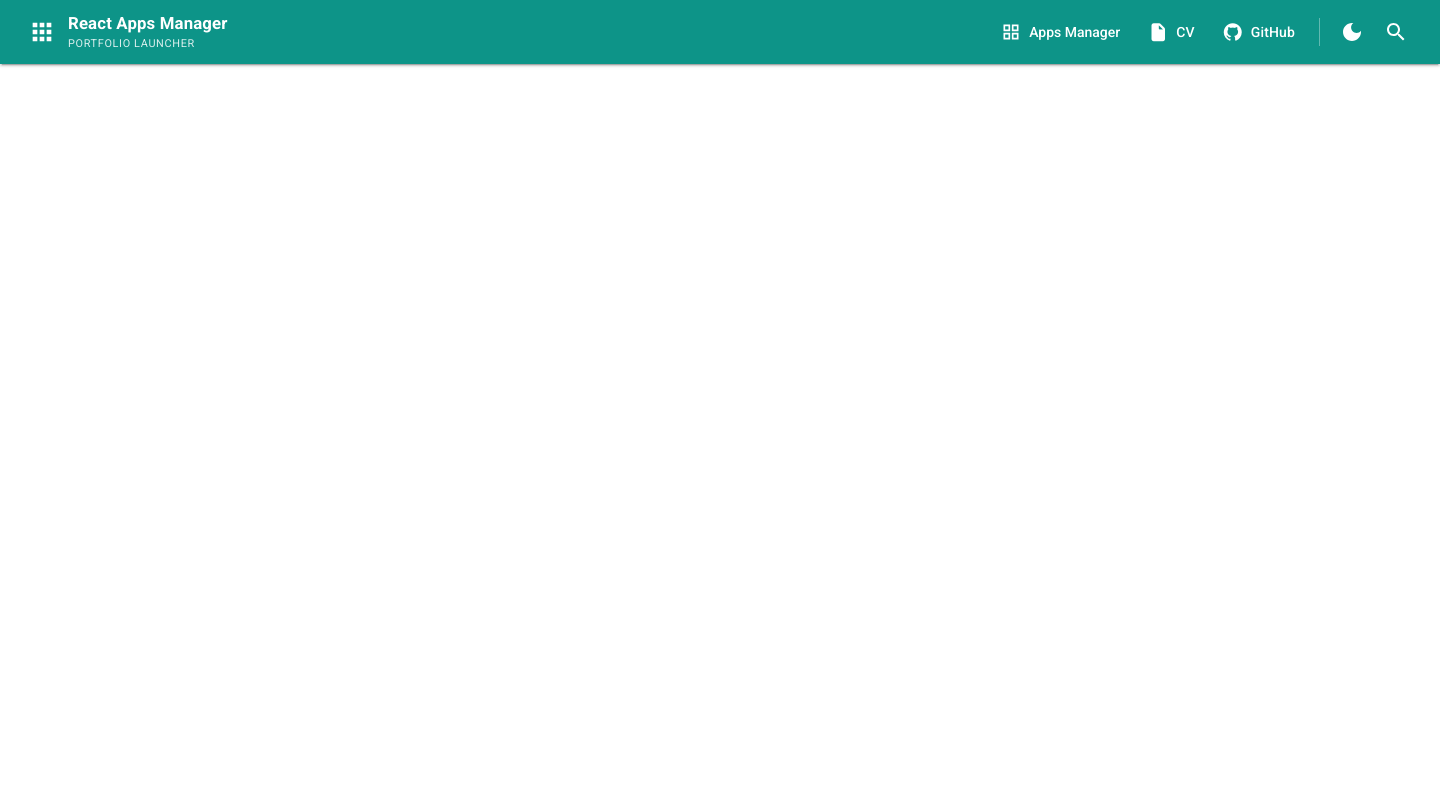
Test case: AppsManagerNavbar › desktop › opens and closes the search dialog
The image size is (1440, 810).
Click the button named "Search" at point(1396, 32), box [1376,12,1416,52]
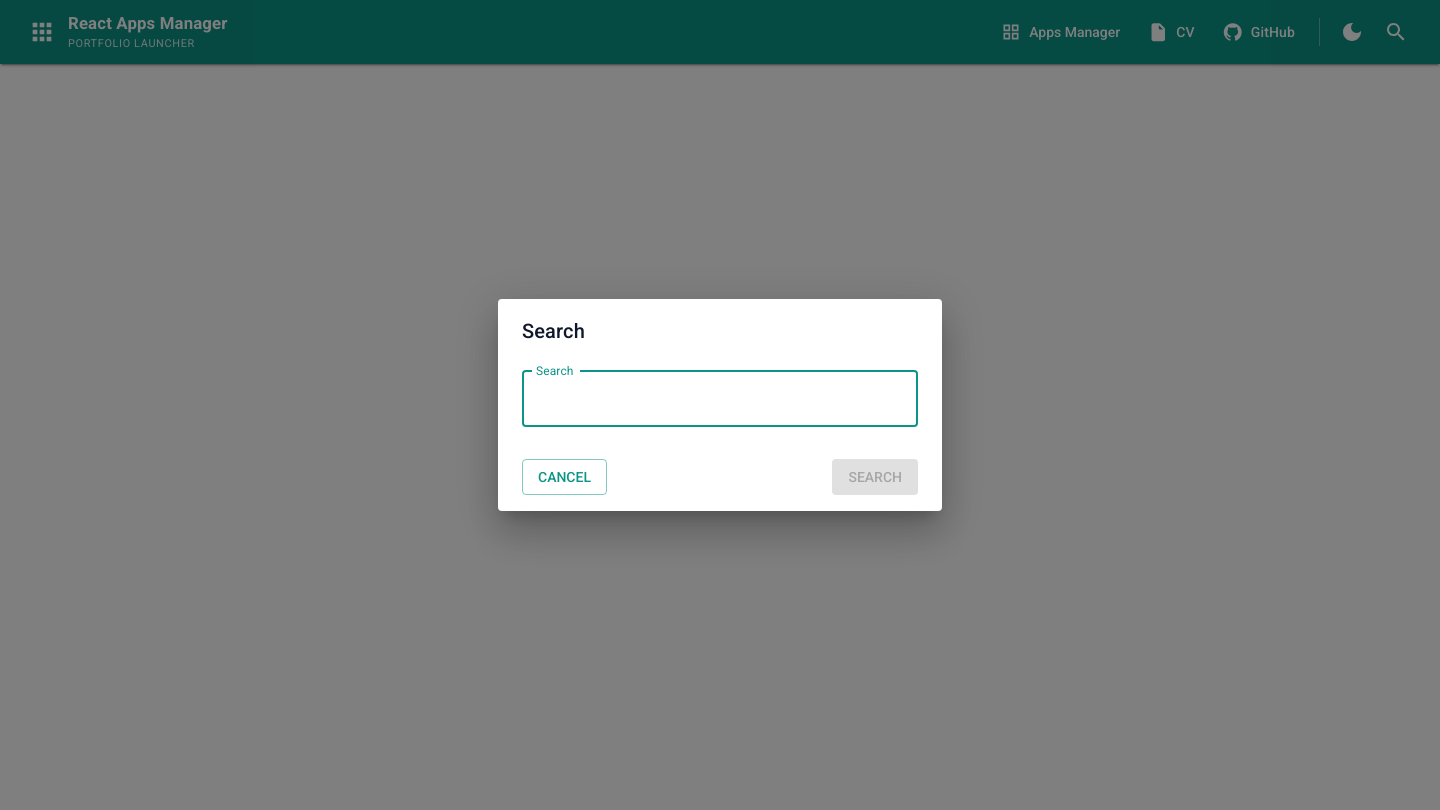
Expected: the heading "Search" is shown, [522,319,585,343]
Click the button "Cancel" at point(564, 477), box [522,459,607,495]
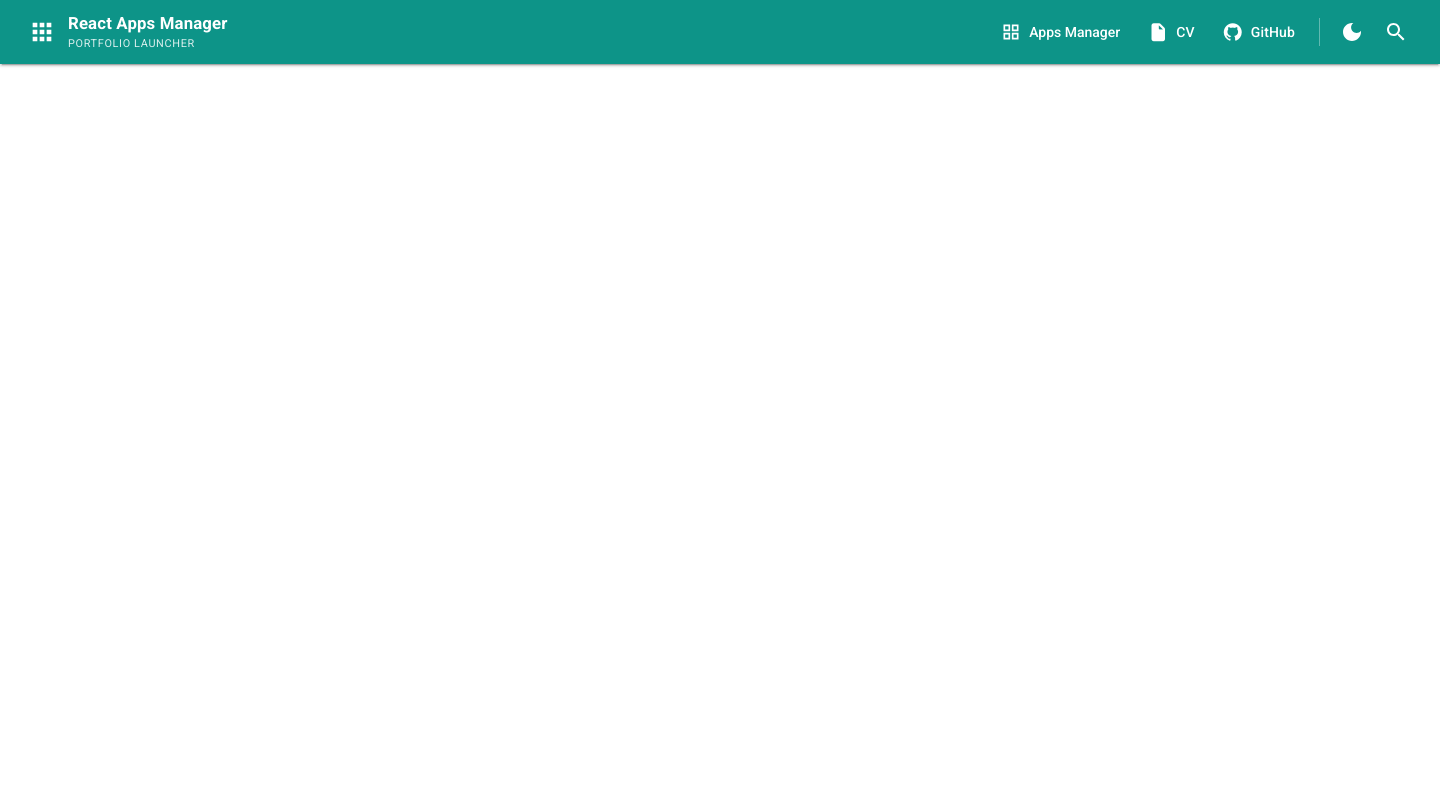
Expected: the dialog is gone
